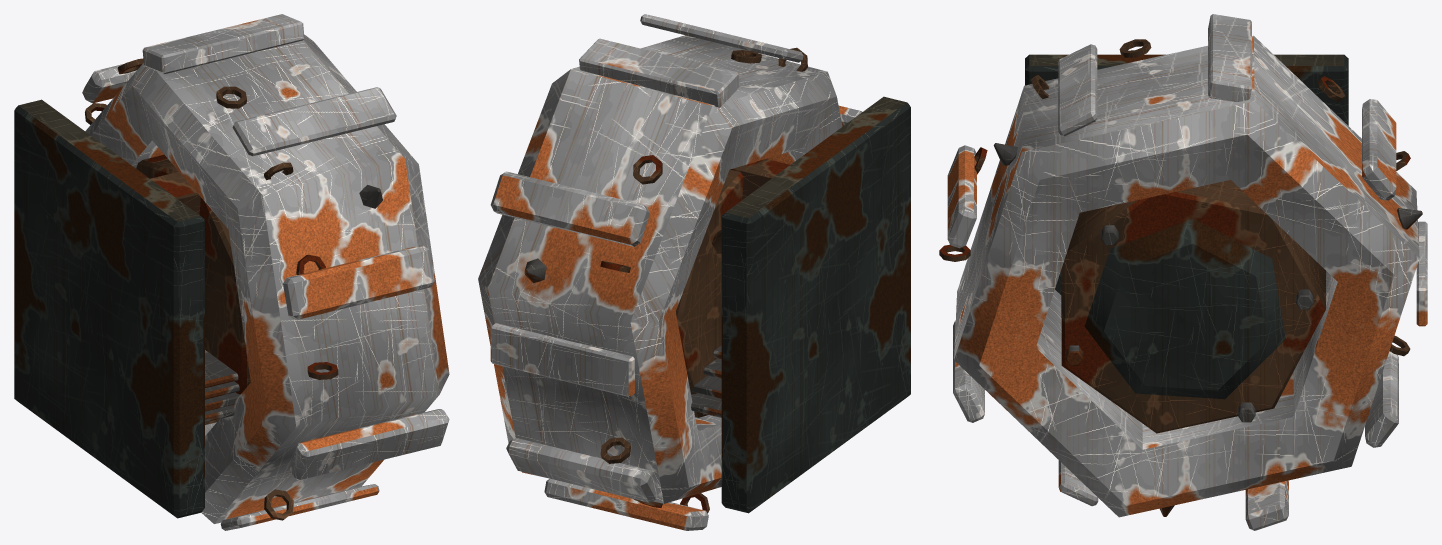
Rendered from R4M_WheelM_Side_Offroad_LOD1.glb.
3 views of the same model, side by side, from view 1: azimuth 30°, elevation 25°; view 2: azimuth 150°, elevation 25°; view 3: azimuth 270°, elevation 25° (orthographic).
Parts seen in each view (by area): view 1: R4M_WheelM_Side_Offroad_LOD1; view 2: R4M_WheelM_Side_Offroad_LOD1; view 3: R4M_WheelM_Side_Offroad_LOD1.
Boxes of the visible parts, x1,y1,x2,y2 form: R4M_WheelM_Side_Offroad_LOD1: (14,14,449,530); R4M_WheelM_Side_Offroad_LOD1: (478,14,910,530); R4M_WheelM_Side_Offroad_LOD1: (939,14,1427,530).
Bounding box in the file's own units: 0.448 × 0.7696 × 0.7542.
Materials: 5 (5 with a texture image).
